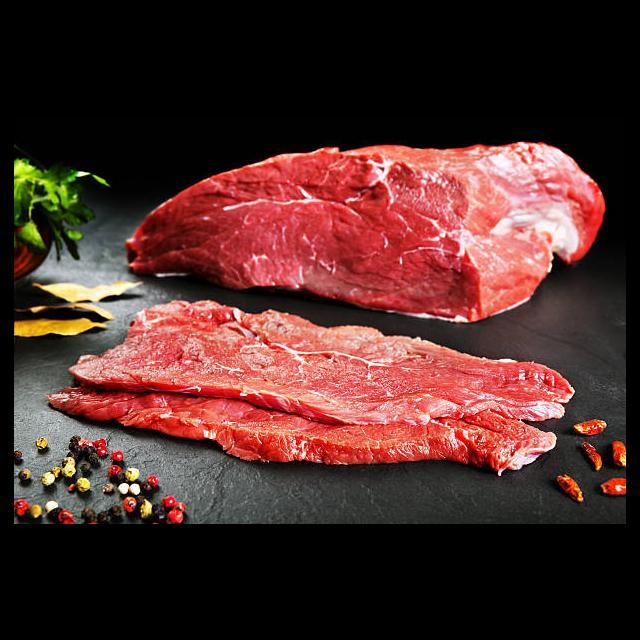beef: (46, 298, 575, 476), (125, 139, 605, 324)
